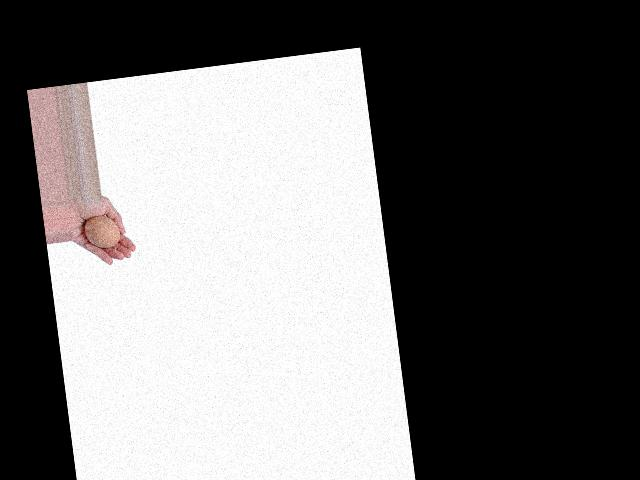egg: (83, 213, 121, 250)
